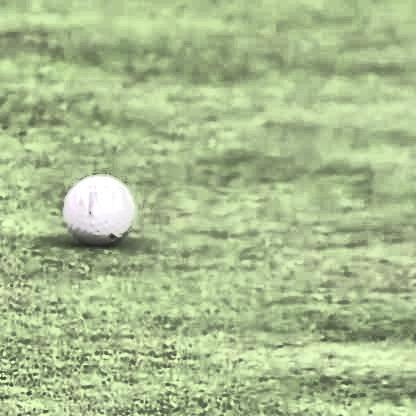golfball: (64, 169, 134, 240)
